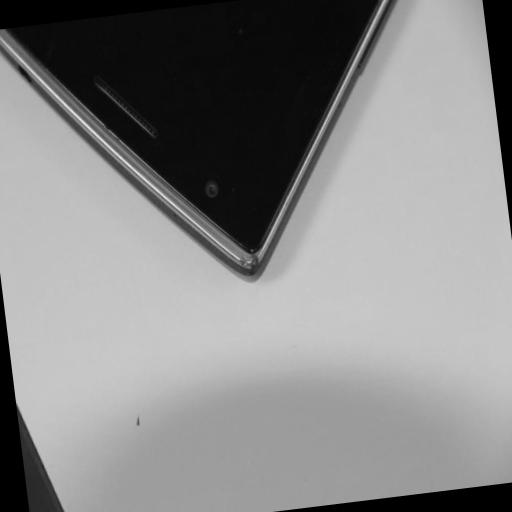phone: (0, 0, 398, 281)
